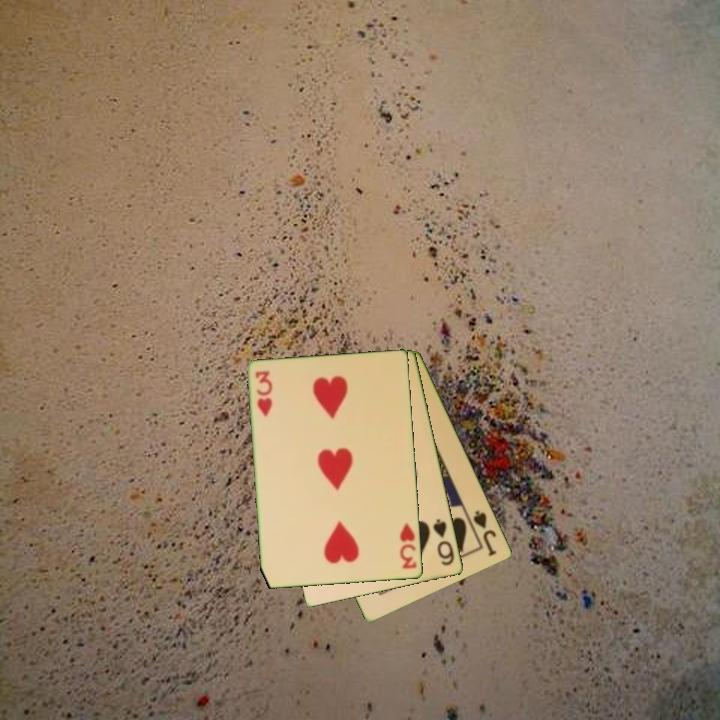3h: (396, 519, 420, 572), (252, 367, 275, 419)
6s: (430, 515, 458, 569)
Js: (470, 507, 500, 559)
